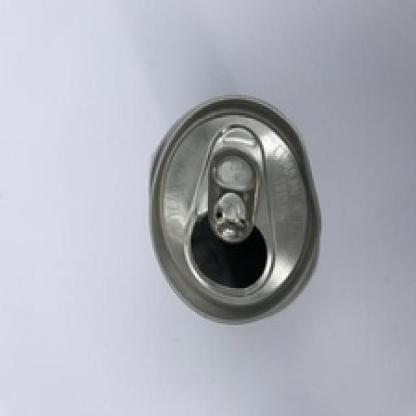Can: (152, 94, 320, 324)
